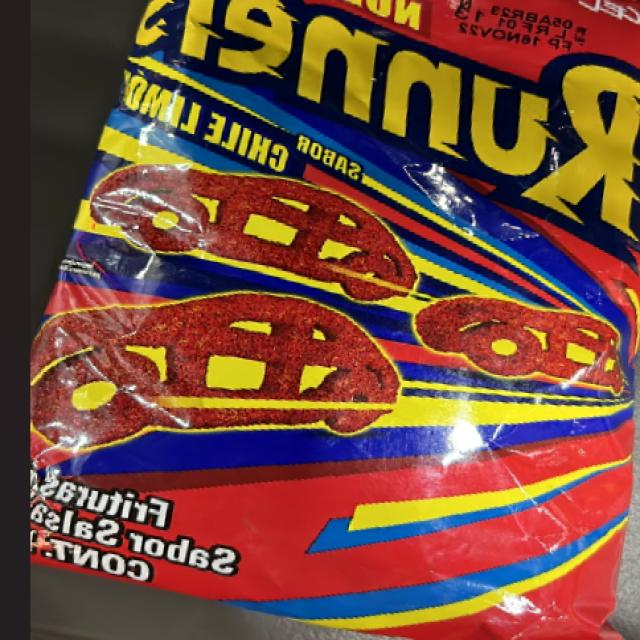runners: (128, 2, 630, 640)
